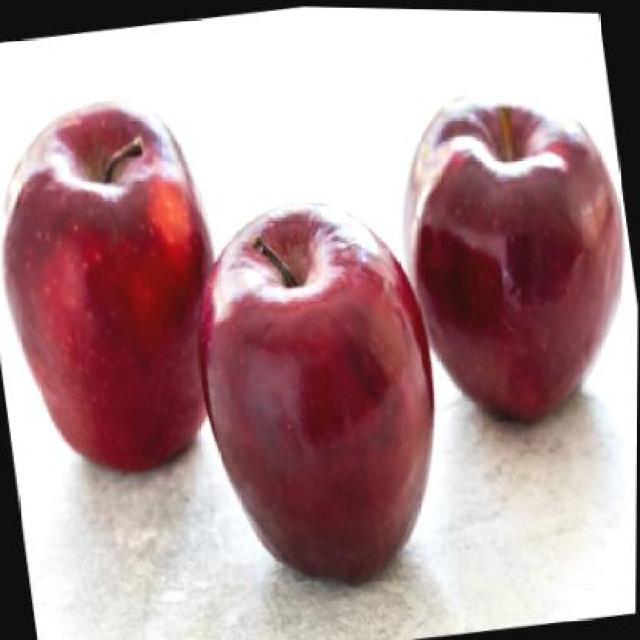Fresh Apple: (183, 216, 436, 592), (390, 92, 629, 440), (17, 101, 222, 460)
